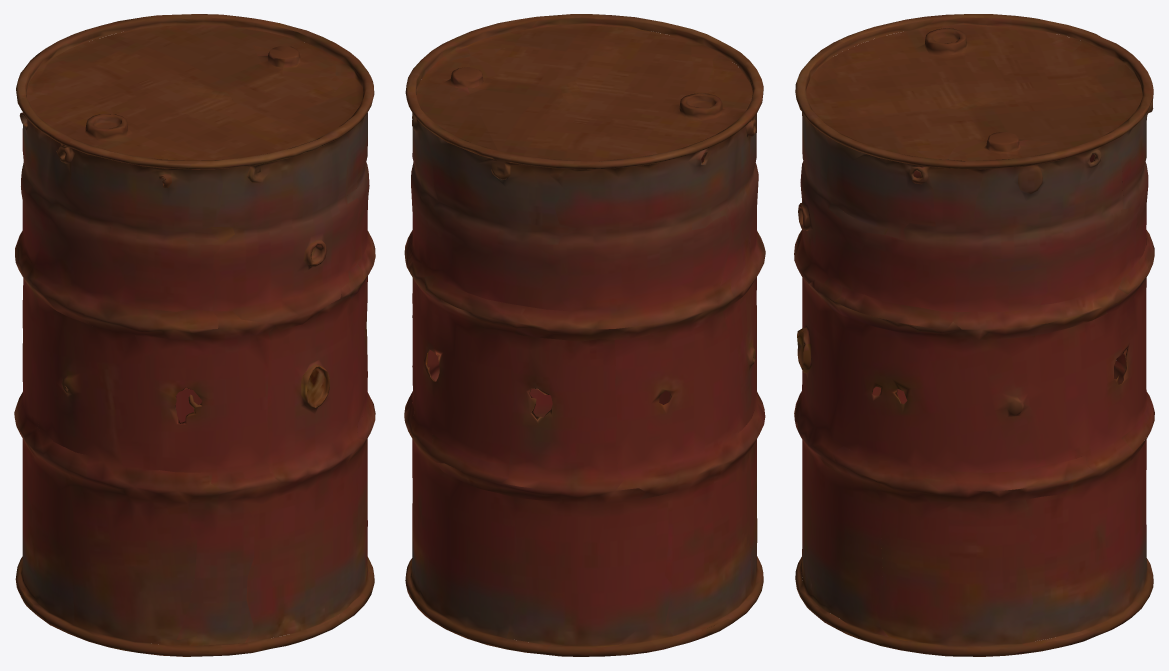
Rendered from tambor.glb.
3 views of the same model, side by side, from view 1: azimuth 30°, elevation 25°; view 2: azimuth 150°, elevation 25°; view 3: azimuth 270°, elevation 25° (orthographic).
Parts seen in each view (by area): view 1: geometry_0; view 2: geometry_0; view 3: geometry_0.
Part boxes in pixels (box(x1,y1,x2,y2)): geometry_0: box(14, 14, 375, 656); geometry_0: box(404, 14, 765, 656); geometry_0: box(794, 14, 1154, 656).
Size of the model in its own units: 0.58 by 0.88 by 0.58.
1 material, 1 textured.
